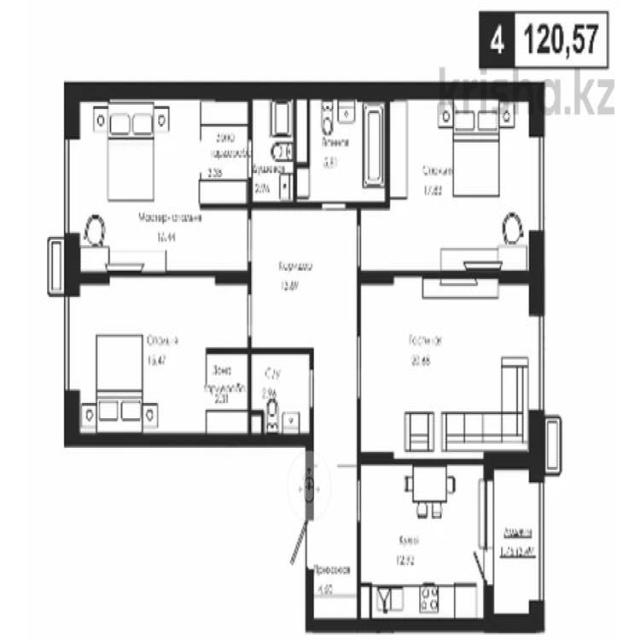balcony: (489, 461, 539, 622)
bathroom: (298, 92, 386, 204), (250, 351, 312, 439), (253, 91, 298, 206)
hallway: (254, 210, 356, 349), (311, 457, 358, 621)
kitchen: (363, 466, 484, 624)
living_room: (362, 281, 540, 455), (387, 94, 543, 277), (73, 99, 201, 270), (71, 280, 204, 439)
other: (203, 89, 252, 205), (206, 351, 248, 443)
